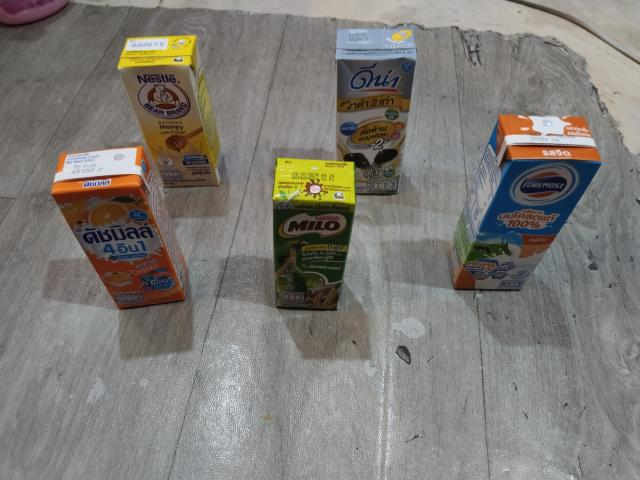drink_box: (440, 99, 613, 298), (33, 140, 201, 319), (131, 25, 231, 180), (266, 153, 354, 317), (331, 25, 415, 191)
